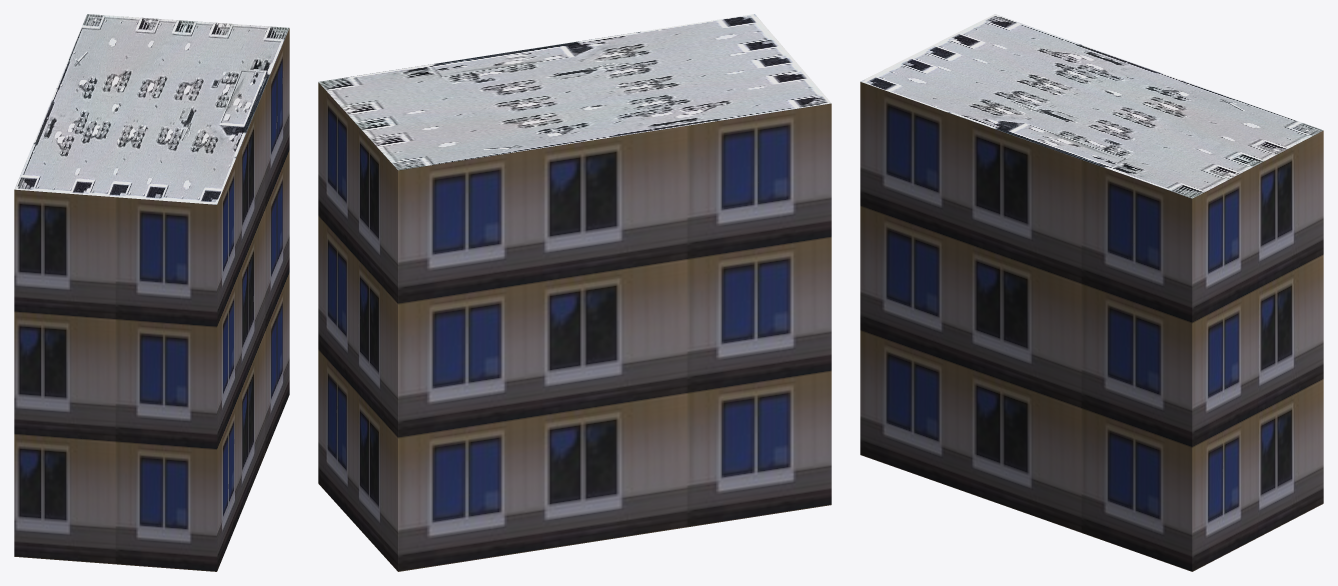
File: ResTex__4359.fbx
The picture shows the model from 3 angles, left to right: view 1: azimuth 30°, elevation 25°; view 2: azimuth 150°, elevation 25°; view 3: azimuth 270°, elevation 25°; orthographic projection. The views are drawn at different scales.
Parts seen in each view (by area): view 1: CityEngineMaterial_5_m, CityEngineMaterial_4_m; view 2: CityEngineMaterial_5_m, CityEngineMaterial_4_m; view 3: CityEngineMaterial_5_m, CityEngineMaterial_4_m.
Part boxes in pixels (x1,y1,x2,y2): CityEngineMaterial_5_m: (14,28,289,571); CityEngineMaterial_4_m: (14,14,289,204); CityEngineMaterial_5_m: (318,82,831,571); CityEngineMaterial_4_m: (318,14,831,170); CityEngineMaterial_5_m: (860,82,1323,571); CityEngineMaterial_4_m: (860,14,1323,198).
Bounding box in the file's own units: 9.55 × 9 × 10.13.
2 materials, 2 textured.
